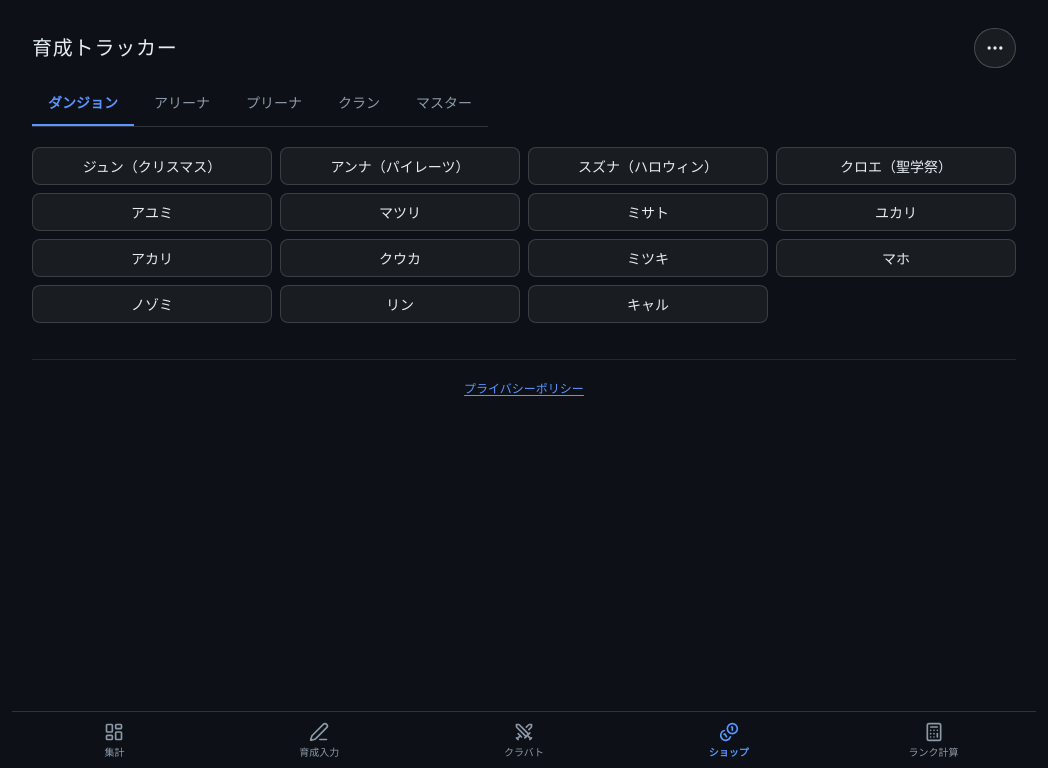
Test: App: 画面切り替え時のページスクロール › 別画面へ切り替えると先頭へ戻り、同じ画面では位置を変えない（mobile=true）
The width and height of the screenshot is (1048, 768).
(page scrolled)
Expected: the tab "ダンジョン" is shown, [32,84,134,126]
Press the mouse on the tab "集計" at {"x": 114, "y": 740}, box [12,712,217,767]
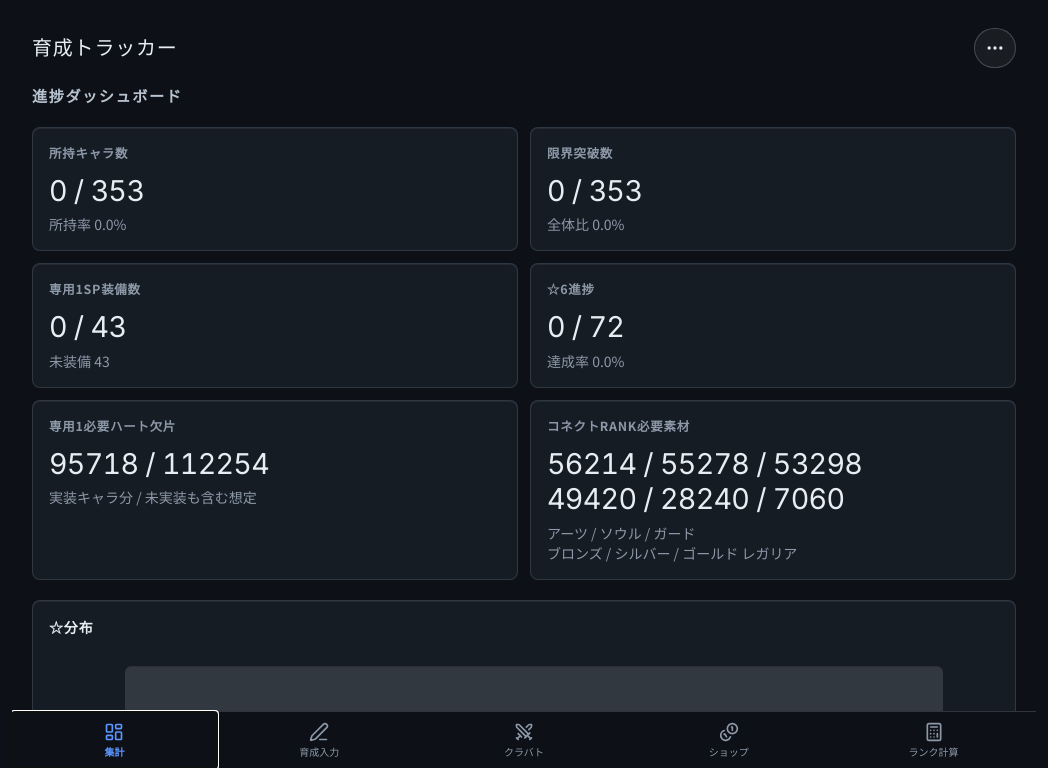
Expected: the heading "進捗ダッシュボード" is shown, [32,84,182,106]
Press the mouse on the tab "集計" at {"x": 114, "y": 740}, box [12,712,217,767]
// 往復時も別画面の位置を復元せず、先頭へ戻す。
Press the mouse on the tab "ショップ" at {"x": 729, "y": 740}, box [626,712,831,767]
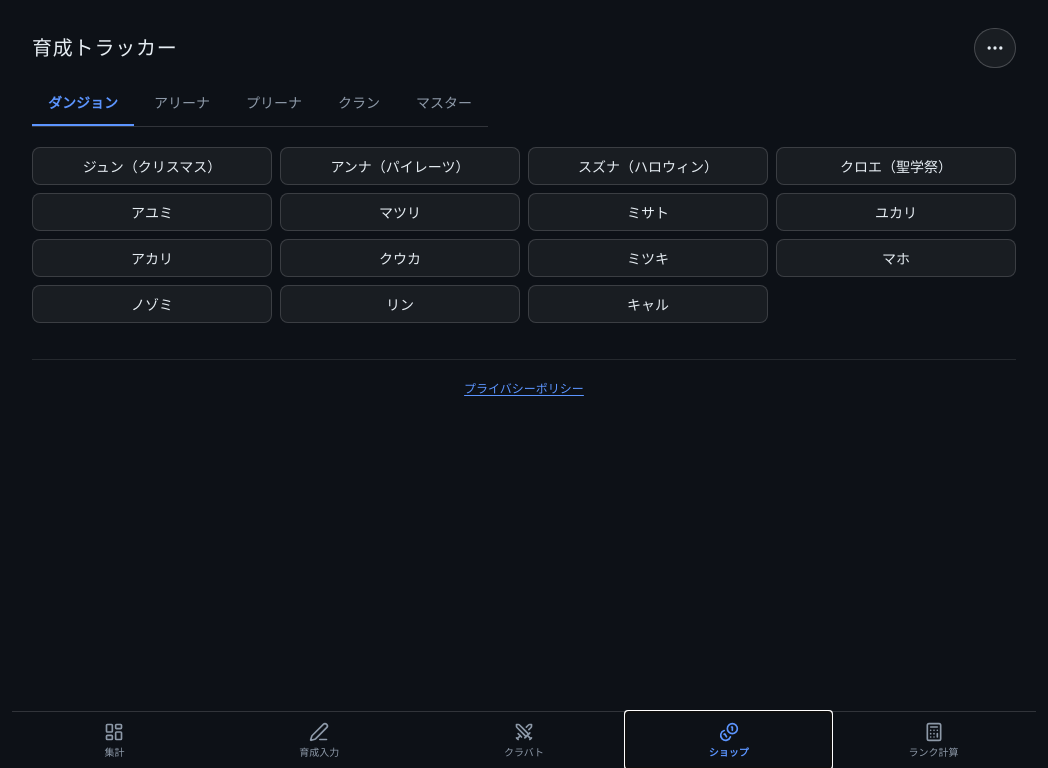
Expected: the tab "ダンジョン" is shown, [32,84,134,126]
